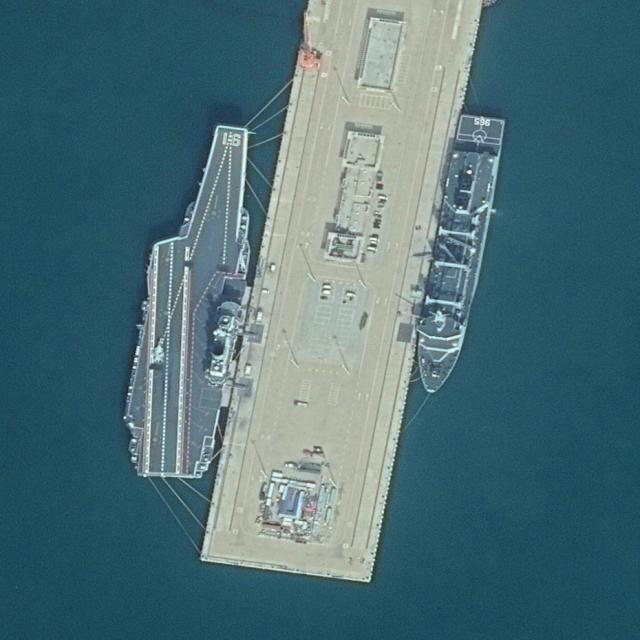Aircraft Carrier: (110, 114, 278, 489)
Other Warship: (407, 115, 506, 401)
